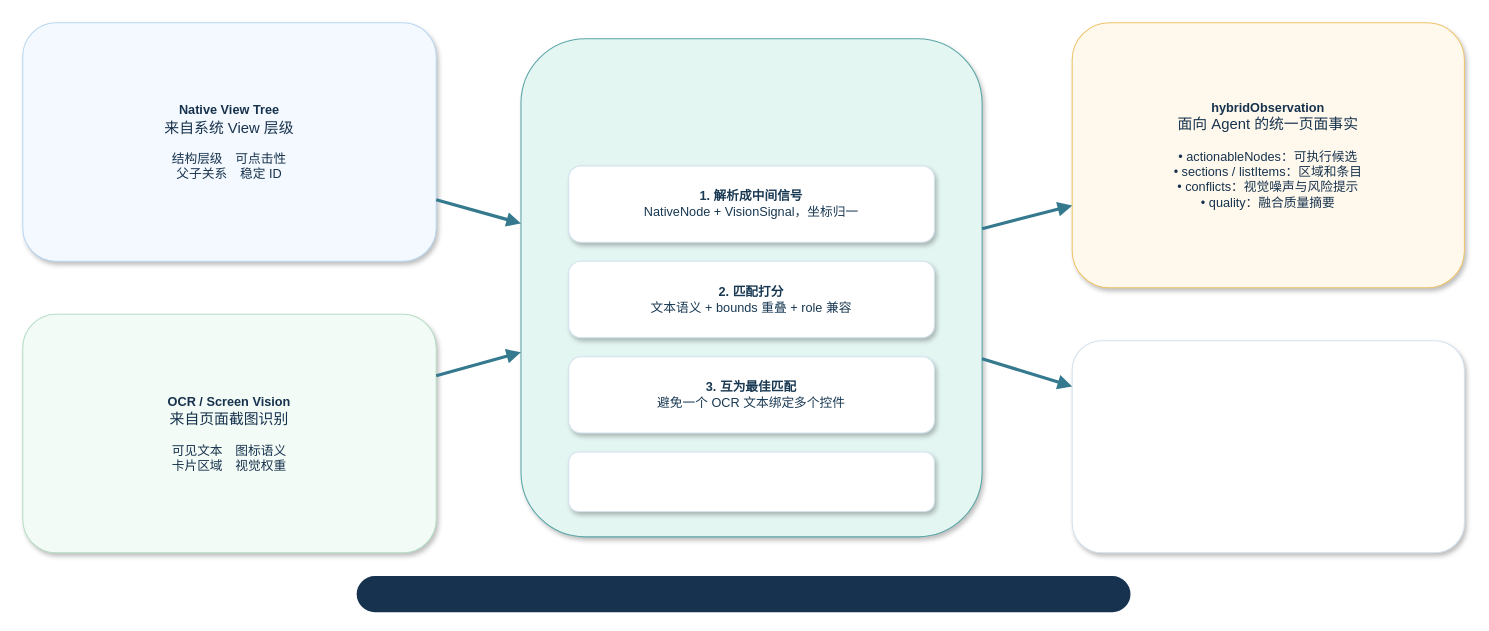
The diagram is 1489 pixels wide and 631 high, and some of its shapes have lost their labels. Each missing label, with the centre of its shape:
4. 输出 fused / native / vision_only: the point at 752,483
Agent 消费 候选归一：父容器 + 子文本 + 图标 唯一高置信：本地 fast execute 歧义或高风险：回退模型判断: the point at 1269,447
Native 决定“能不能点、点哪里”，OCR 补强“看见了什么、语义是什么”: the point at 743,594
